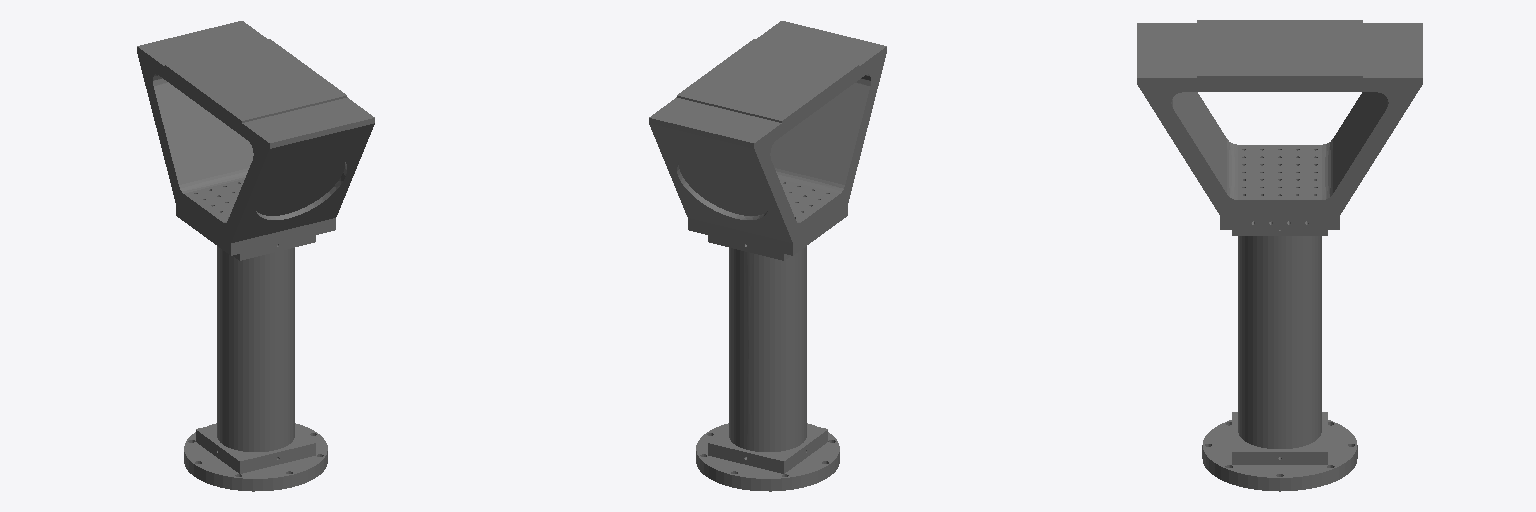
robot.urdf — IndyDualArm:
<?xml version="1.0" ?>
<robot name="IndyDualArm" xmlns:xacro="http://www.ros.org/wiki/xacro">
  <material name="metal_grey">
    <color rgba="0.5 0.5 0.5 1"/>
  </material>
  <material name="black">
    <color rgba="0.2 0.2 0.2 1"/>
  </material>  
  <material name="metal_white_grey">
    <color rgba="0.7 0.7 0.7 1"/>
  </material>  
	<link name="world"/>
	<link name="body">
		<inertial>
			<origin rpy="0 0 0" xyz="0 0 0"/>
			<mass value="1.59306955" />
			<inertia ixx="+0.00572623" iyy="+0.00558959" izz="+0.00966674" ixy="+0.00000251" iyz="-0.00000014" ixz="-0.00011380"/>
		</inertial>
		<visual>
			<origin rpy="0 0 0" xyz="0 0 0"/>
			<geometry>
				<mesh filename="meshes/dual_arm_body.stl" />
			</geometry>
		<material name="metal_grey"/>

		</visual>

		<!-- <collision>
			<origin rpy="0 0 0" xyz="0 0 1.2675"/>
			<geometry>
				<box size="0.227 0.224 0.328"/>
			</geometry>

		</collision> -->
		<!-- <collision>
			<origin rpy="0 0 0" xyz="0 0 0.9242"/>
			<geometry>
				<cylinder radius="0.07" length="0.5"/>
			</geometry>

		</collision> -->
		

	</link>
<link name="base">
	<inertial>
		<origin rpy="0 0 0" xyz="0 0 0"/>
		<mass value="1.59306955" />
		<inertia ixx="+0.00572623" iyy="+0.00558959" izz="+0.00966674" ixy="+0.00000251" iyz="-0.00000014" ixz="-0.00011380"/>
	</inertial>
	<visual>
		<origin rpy="0 0 0" xyz="0 0 0"/>
		<geometry>
			<mesh filename="meshes/mobile_base.stl" />
		</geometry>
	<material name="black"/>

	</visual>

</link>
	
 	<joint name="world_fixed" type="fixed">
 		<origin rpy="0 0 0" xyz="0 0 0"/>
 		<parent link="world"/>
		<child link="body"/>
 	</joint>
 
	 <joint name="base_fixed" type="fixed">
		<origin rpy="0 0 0" xyz="0 0 0"/>
		<parent link="world"/>
	   <child link="base"/>
	</joint>
</robot>

--- Render facts (derived) ---
Views: 3 orthographic renders of the robot side by side, from view 1: azimuth 30°, elevation 25°; view 2: azimuth 150°, elevation 25°; view 3: azimuth 270°, elevation 25°.
Robot: IndyDualArm — 3 links, 2 joints (2 fixed); root link world; default pose: every joint at zero.
Links seen in each view (by area): view 1: body; view 2: body; view 3: body.
Link boxes in pixels (x1,y1,x2,y2): body: (137,21,374,491); body: (649,21,886,491); body: (1137,20,1422,491).
Bounding box of the posed robot: 0.26 × 0.48 × 0.7598 m (x, y, z).
Meshes: 2 distinct files referenced, 1 mesh visuals loaded (1 binary STL); not drawn: 1 (reference not matched to a file when rendering).
